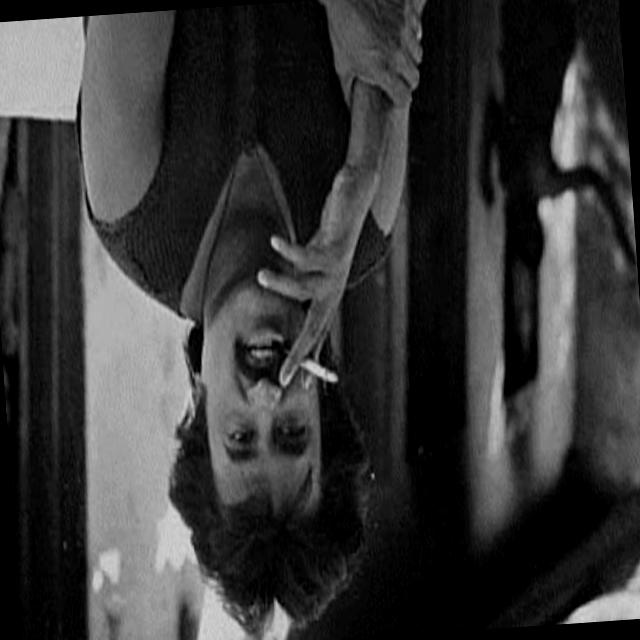smoke: (277, 326, 351, 402)
